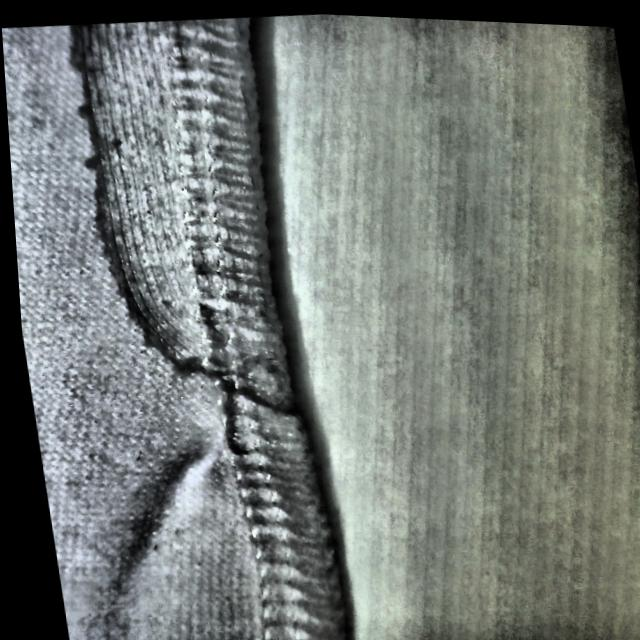seam: (7, 5, 306, 397)
